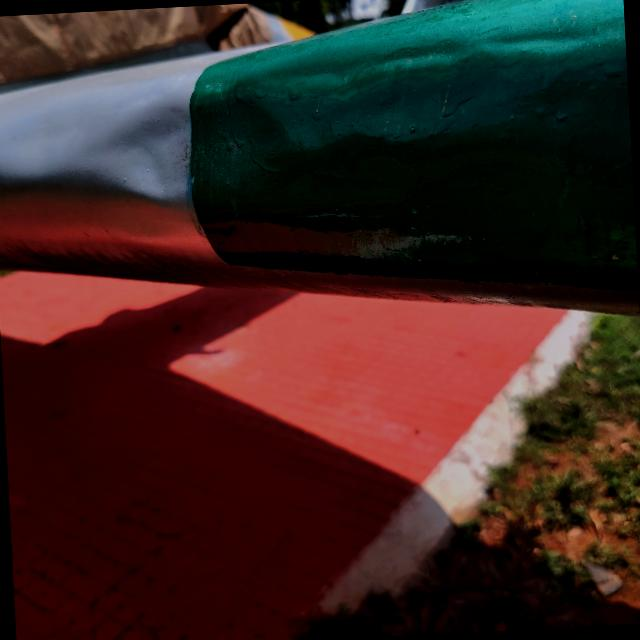dent: (67, 72, 310, 238)
